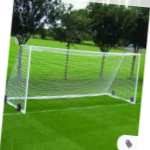goals: (7, 44, 142, 114)
